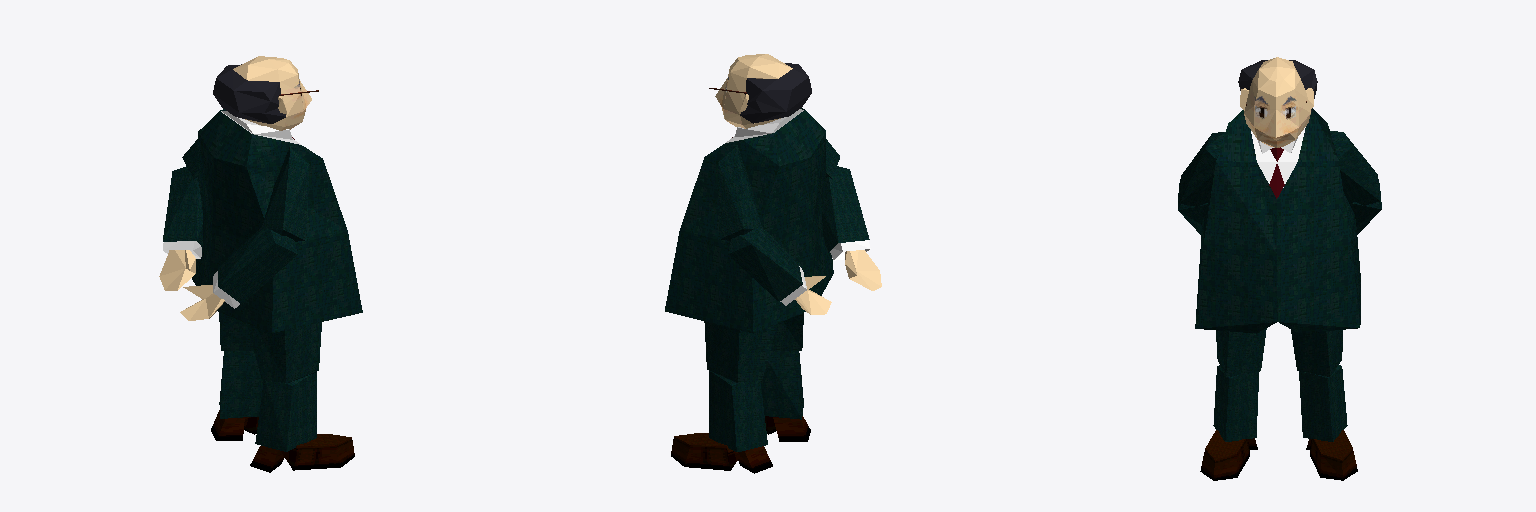
3 views of the same model, side by side, from view 1: azimuth 30°, elevation 25°; view 2: azimuth 150°, elevation 25°; view 3: azimuth 270°, elevation 25° (orthographic).
Size of the model in its own units: 10.54 by 21.72 by 10.3.
Materials: 9 (9 with a texture image).